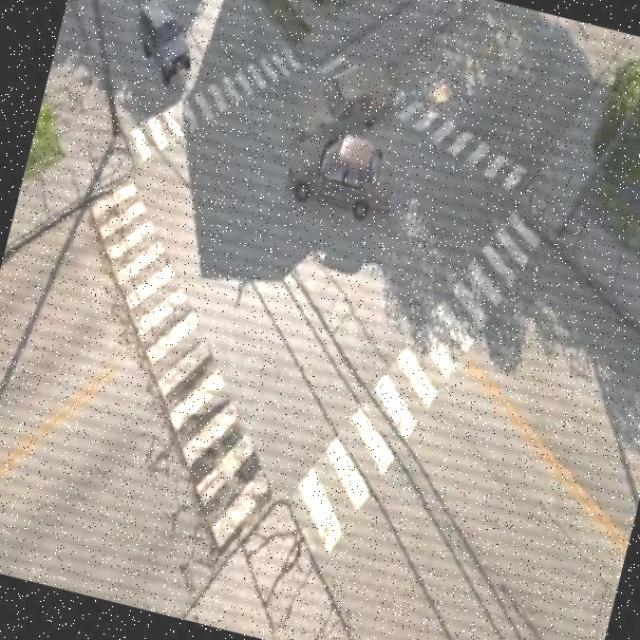accident: (276, 58, 377, 207)
